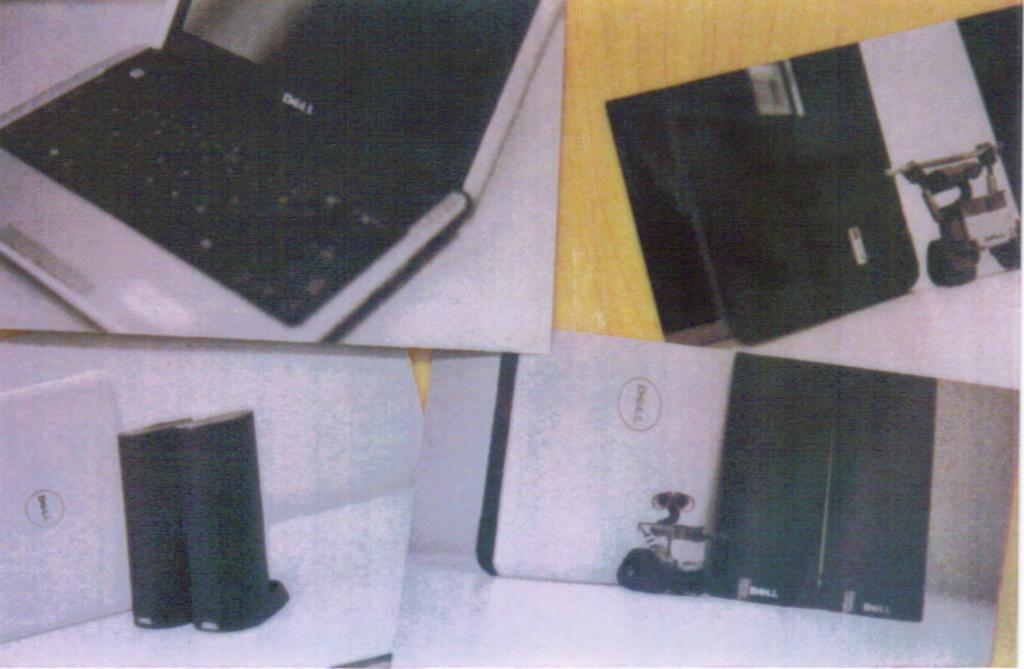Laptop: (0, 1, 602, 334)
